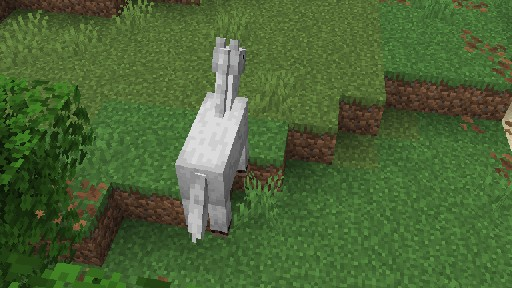horse: (174, 36, 249, 242)
